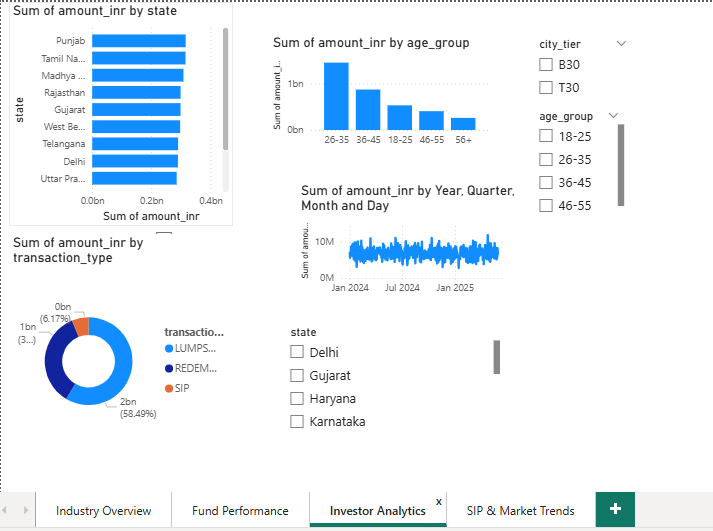

What the dashboard file says about the page in this screenshot:
{"tool":"powerbi","page":{"name":"Investor Analytics","canvas":[1280,720],"ordinal":2},"visuals":[{"type":"barChart","fields":{"Category":["clean_investor_transactions.state"],"Y":["Sum(clean_investor_transactions.amount_inr)"]},"box":[10,0,280,280],"z":0},{"type":"donutChart","fields":{"Y":["Sum(clean_investor_transactions.amount_inr)"],"Category":["clean_investor_transactions.transaction_type"]},"box":[10,290,280,280],"z":1},{"type":"clusteredColumnChart","fields":{"Category":["clean_investor_transactions.age_group"],"Y":["Sum(clean_investor_transactions.amount_inr)"]},"box":[334.4,40,280,150],"z":2},{"type":"lineChart","fields":{"Y":["Sum(clean_investor_transactions.amount_inr)"],"Category":["clean_investor_transactions.transaction_date.Variation.Date Hierarchy.Year","clean_investor_transactions.transaction_date.Variation.Date Hierarchy.Quarter","clean_investor_transactions.transaction_date.Variation.Date Hierarchy.Month","clean_investor_transactions.transaction_date.Variation.Date Hierarchy.Day"]},"box":[370,225.6,280,150],"z":3},{"type":"slicer","fields":{"Values":["clean_investor_transactions.state"]},"box":[348.9,400,280,150],"z":4},{"type":"slicer","fields":{"Values":["clean_investor_transactions.city_tier"]},"box":[660,40,134.4,100],"z":5},{"type":"slicer","fields":{"Values":["clean_investor_transactions.age_group"]},"box":[660,130,124.4,150],"z":6}]}

Visuals, with their boxes on the page's 1280x720 design canvas (x1, y1, x2, y2). These are canvas units, not pixel positions in the 713x531 screenshot, which may show the page scaled, cropped or inside an application window:
barChart - clean_investor_transactions.state x Sum(clean_investor_transactions.amount_inr): [10, 0, 290, 280]
donutChart - Sum(clean_investor_transactions.amount_inr) x clean_investor_transactions.transaction_type: [10, 290, 290, 570]
clusteredColumnChart - clean_investor_transactions.age_group x Sum(clean_investor_transactions.amount_inr): [334, 40, 614, 190]
lineChart - Sum(clean_investor_transactions.amount_inr) x clean_investor_transactions.transaction_date.Variation.Date Hierarchy.Year: [370, 226, 650, 376]
slicer - clean_investor_transactions.state: [349, 400, 629, 550]
slicer - clean_investor_transactions.city_tier: [660, 40, 794, 140]
slicer - clean_investor_transactions.age_group: [660, 130, 784, 280]
